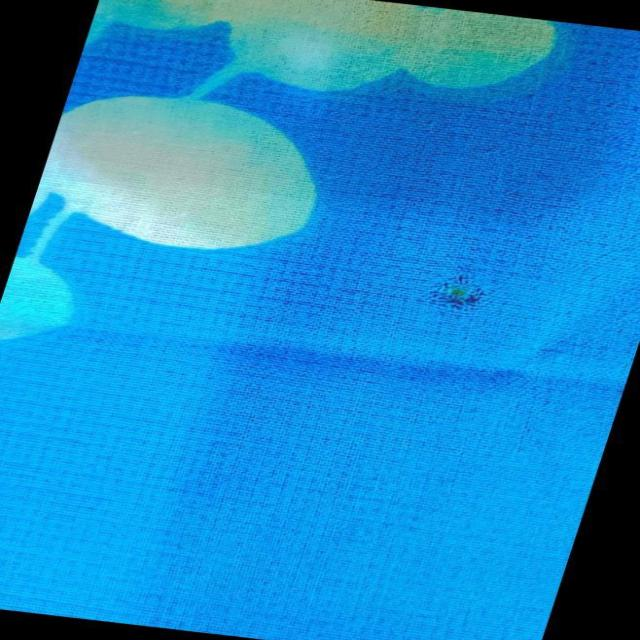cut: (413, 264, 508, 329)
